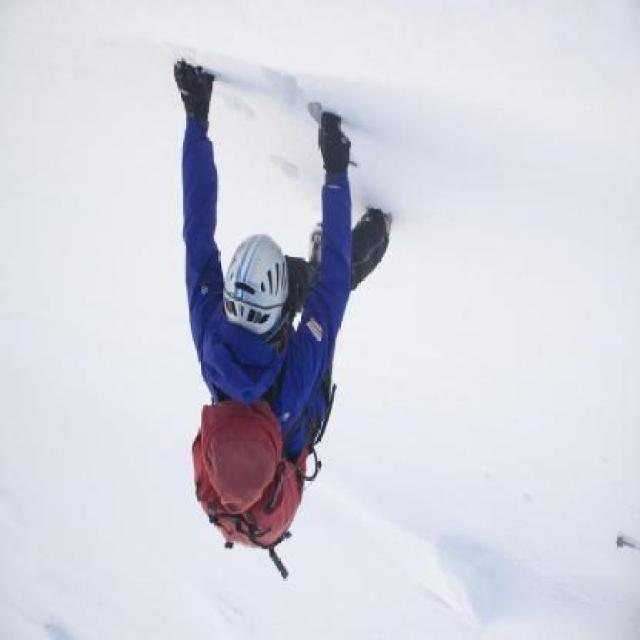backpack: (186, 397, 317, 580)
